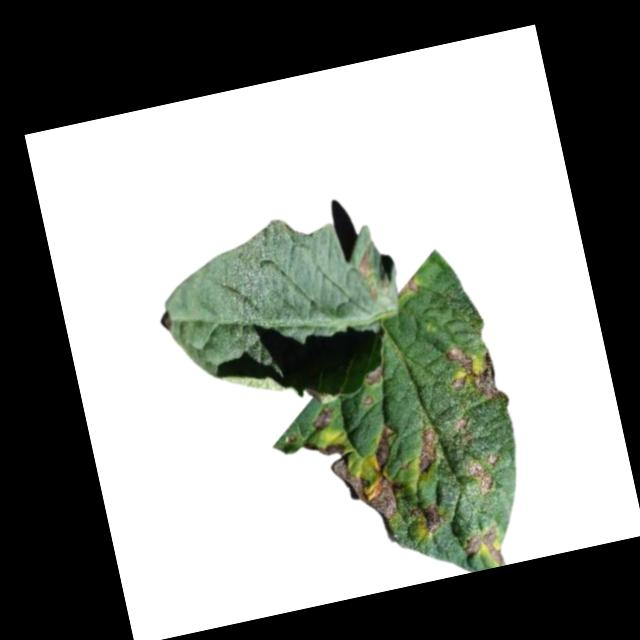Early_blight: (324, 423, 415, 531), (442, 335, 511, 412), (460, 523, 508, 573), (353, 243, 392, 301), (463, 452, 503, 497), (409, 425, 442, 476), (306, 436, 348, 461), (420, 501, 445, 534), (393, 272, 421, 301), (308, 404, 336, 431), (455, 412, 475, 448), (361, 365, 385, 386), (360, 392, 378, 407)
